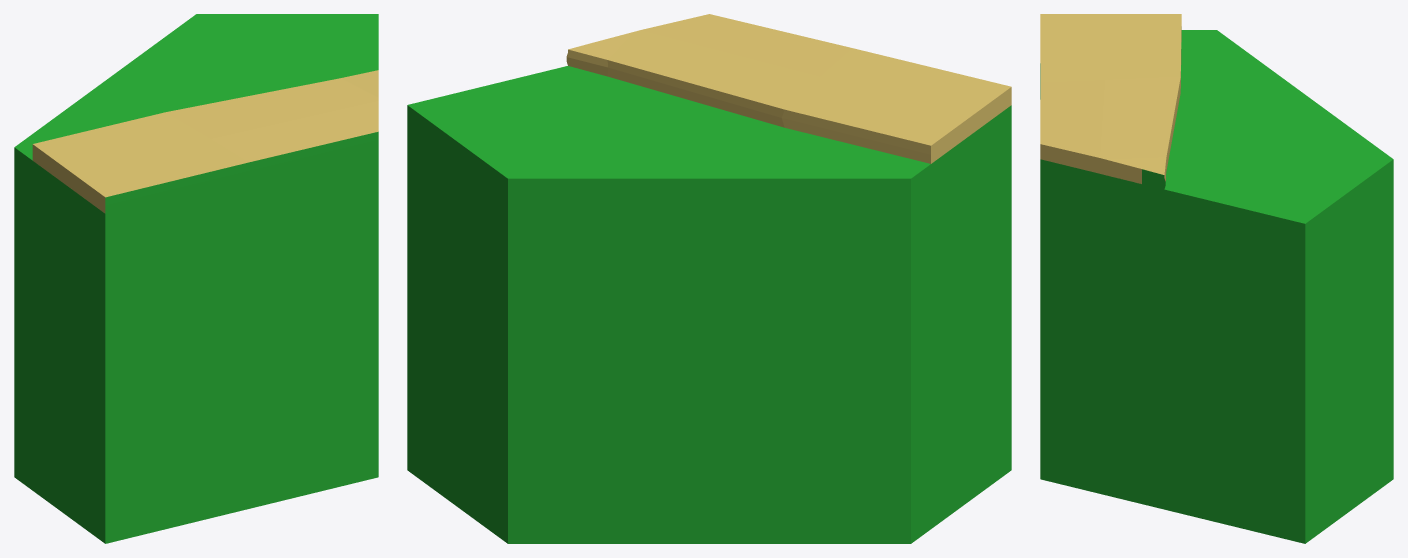
The model's file is module-corner_land_path_end_002.glb.
3 renders of one model, left to right at view 1: azimuth 30°, elevation 25°; view 2: azimuth 150°, elevation 25°; view 3: azimuth 270°, elevation 25°, orthographic. The views are drawn at different scales.
Parts seen in each view (by area): view 1: module-corner_land_path_end_002; view 2: module-corner_land_path_end_002; view 3: module-corner_land_path_end_002.
Boxes of the visible parts, x1,y1,x2,y2 form: module-corner_land_path_end_002: [14, 14, 378, 543]; module-corner_land_path_end_002: [407, 14, 1011, 543]; module-corner_land_path_end_002: [1040, 14, 1393, 543].
Size of the model in its own units: 0.6495 by 0.525 by 0.5.
